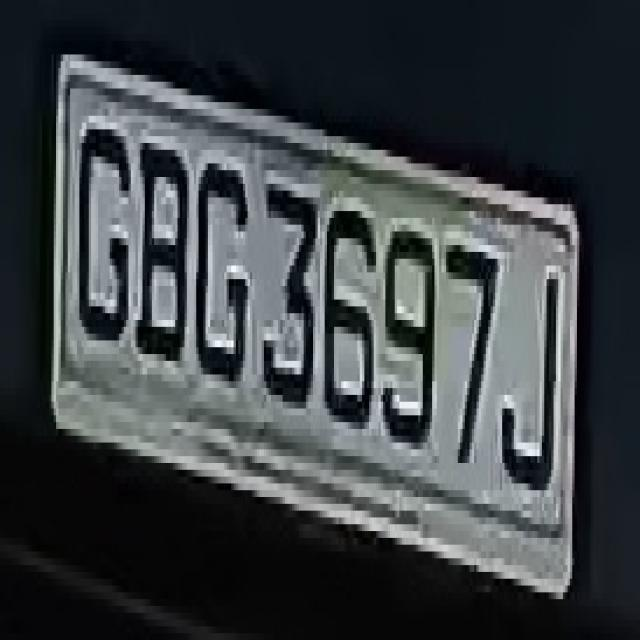3: (264, 129, 322, 429)
6: (324, 170, 380, 456)
7: (437, 204, 500, 477)
9: (379, 170, 439, 477)
B: (129, 116, 196, 402)
G: (192, 109, 252, 408), (75, 89, 133, 368)
J: (507, 225, 567, 524)
